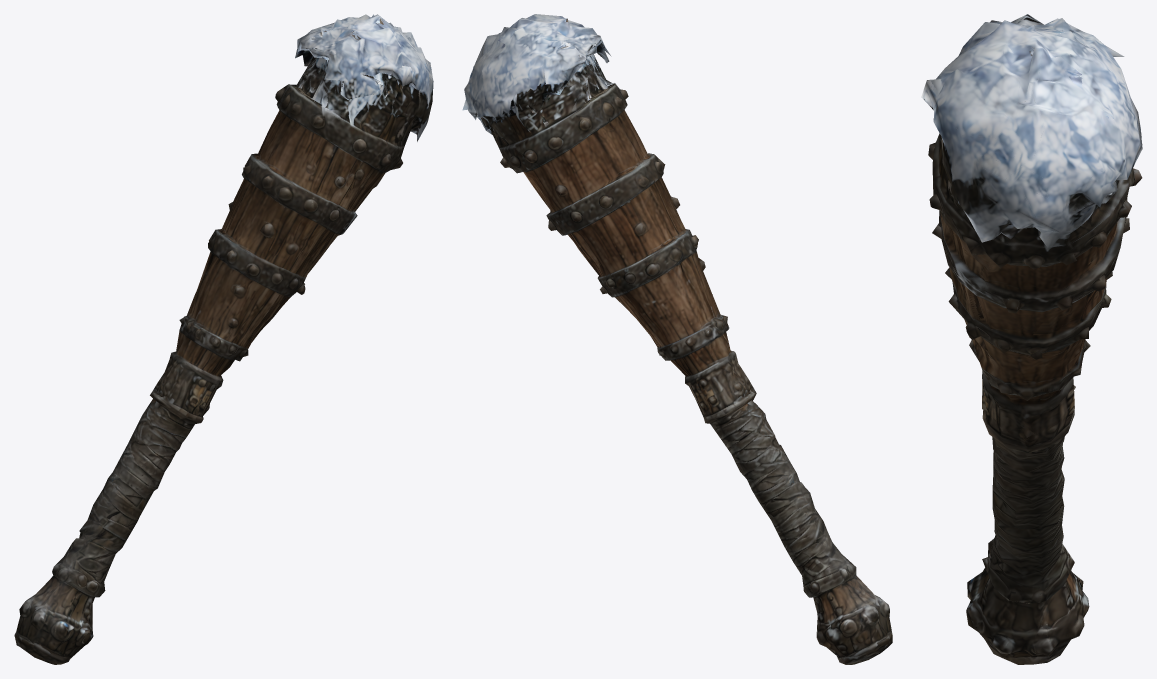
The model's file is PR_Weapon_Gonbong.fbx.
The picture shows the model from 3 angles, left to right: view 1: azimuth 30°, elevation 25°; view 2: azimuth 150°, elevation 25°; view 3: azimuth 270°, elevation 25°; orthographic projection. The views are drawn at different scales.
Parts seen in each view (by area): view 1: texture_mapping; view 2: texture_mapping; view 3: texture_mapping.
Part boxes in pixels (bbox=[...]): texture_mapping: bbox=[14, 14, 433, 664]; texture_mapping: bbox=[462, 14, 892, 664]; texture_mapping: bbox=[921, 14, 1142, 664].
Bounding box in the file's own units: 0.7589 × 0.2313 × 0.9889.
1 material, 1 textured.
